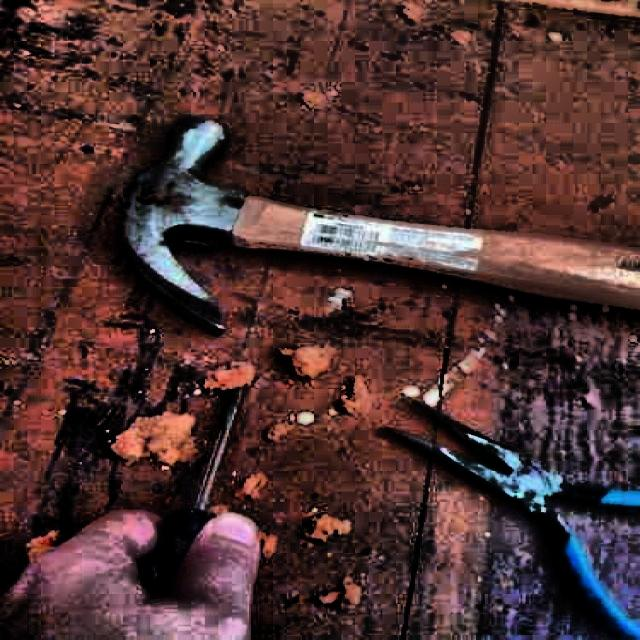hammer: (115, 113, 640, 333)
